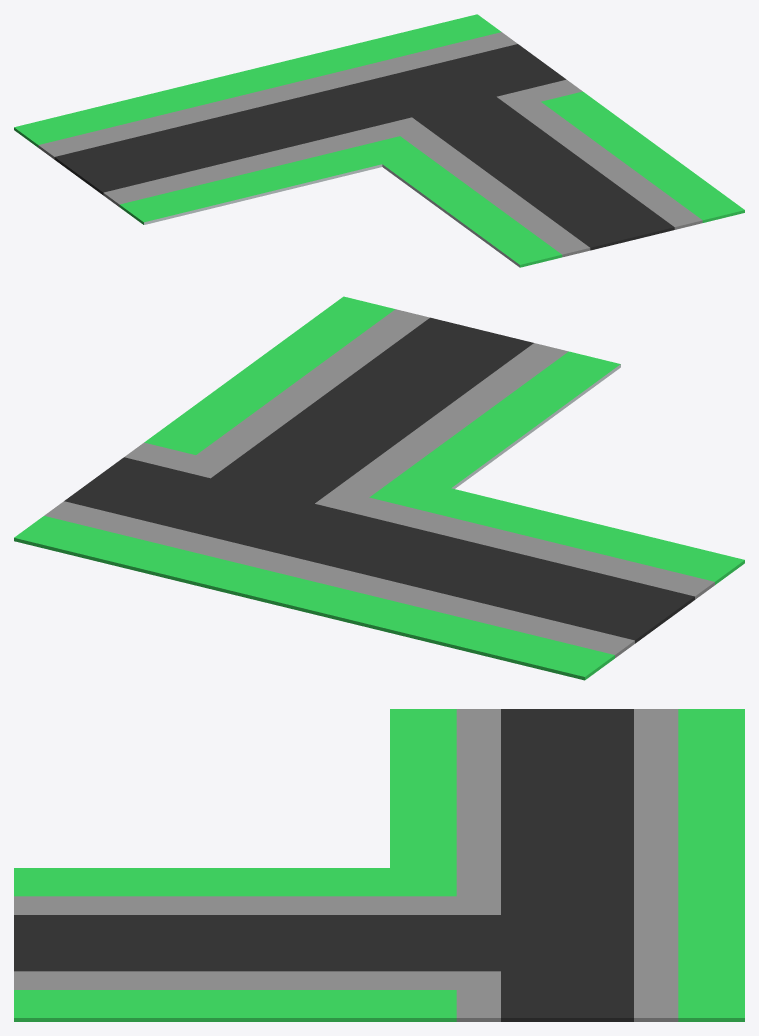
The model's file is street.fbx.
3 views of the same model, one above another, from view 1: azimuth 30°, elevation 25°; view 2: azimuth 150°, elevation 25°; view 3: azimuth 270°, elevation 25° (orthographic). The views are drawn at different scales.
Parts seen in each view (by area): view 1: Street; view 2: Street; view 3: Street.
Part boxes in pixels (bbox=[...]): Street: bbox=[14, 14, 744, 267]; Street: bbox=[14, 296, 744, 680]; Street: bbox=[14, 709, 744, 1021].
Size of the model in its own units: 1730 by 10 by 1730.
